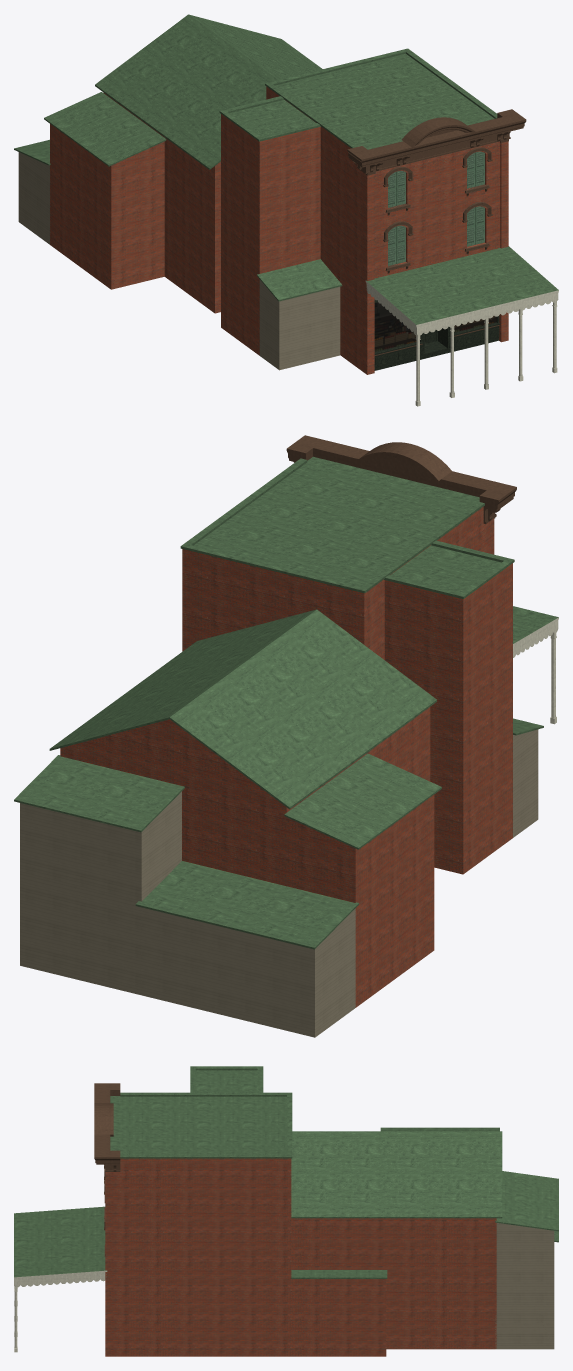
Rendered from block-83-87.glb.
3 views of the same model, one above another, from view 1: azimuth 30°, elevation 25°; view 2: azimuth 150°, elevation 25°; view 3: azimuth 270°, elevation 25° (orthographic). The views are drawn at different scales.
Parts seen in each view (by area): view 1: Block8387; view 2: Block8387; view 3: Block8387.
Boxes of the visible parts, x1,y1,x2,y2 form: Block8387: (14,14,558,406); Block8387: (14,435,558,1037); Block8387: (14,1066,558,1356).
Bounding box in the file's own units: 12.27 × 10.55 × 24.01.
9 materials, 8 textured.
